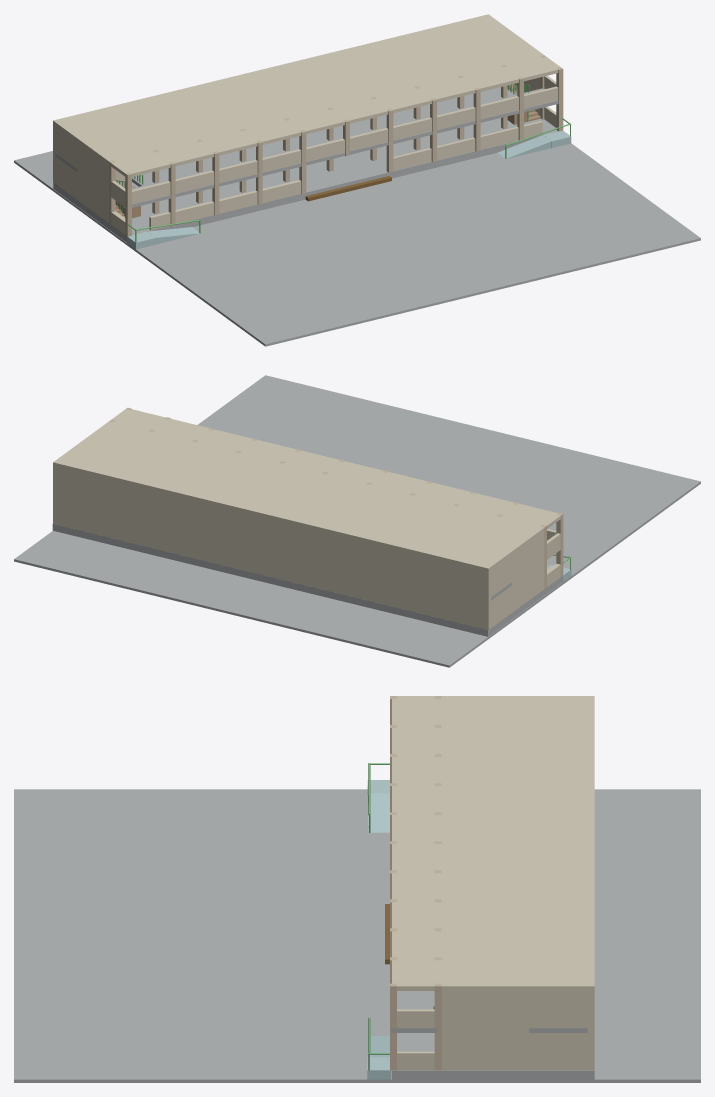
The model's file is school-structure.glb.
3 views of the same model, one above another, from view 1: azimuth 30°, elevation 25°; view 2: azimuth 150°, elevation 25°; view 3: azimuth 270°, elevation 25° (orthographic). The views are drawn at different scales.
Visible parts, largest first — view 1: Mesh_Mesh_head_geo.001_lambert2SG.001; view 2: Mesh_Mesh_head_geo.001_lambert2SG.001; view 3: Mesh_Mesh_head_geo.001_lambert2SG.001.
Boxes of the visible parts, box(x1,y1,x2,y2) form: Mesh_Mesh_head_geo.001_lambert2SG.001: box(14, 14, 700, 346); Mesh_Mesh_head_geo.001_lambert2SG.001: box(14, 375, 700, 667); Mesh_Mesh_head_geo.001_lambert2SG.001: box(14, 696, 700, 1082).
Size of the model in its own units: 200 by 31 by 200.
